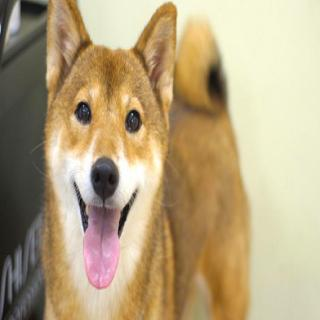dog: (39, 3, 180, 300)
nose: (87, 152, 123, 202)
